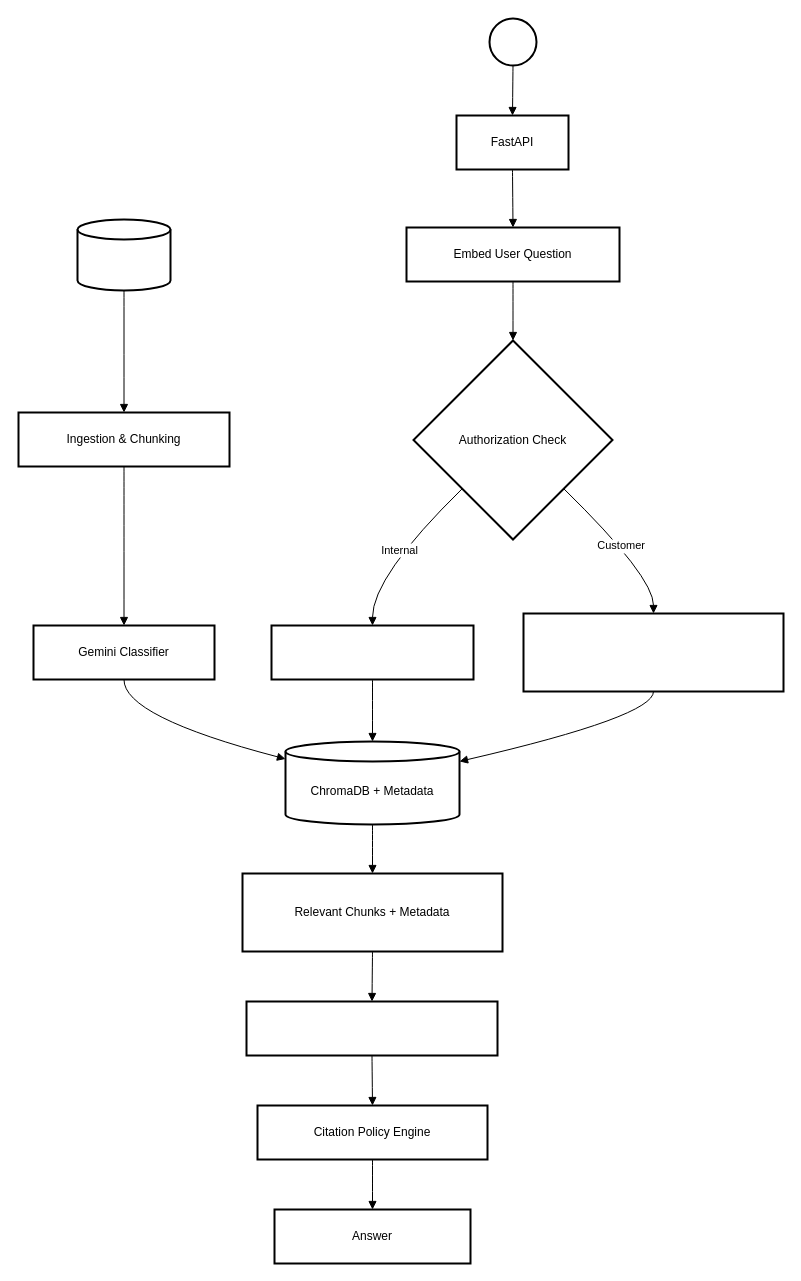
Image size: 801x1281. Some labels were removed from this diagram. The centre of each missing label's shape, as x and y in pixels:
Gemini Answer Generation: pixel 371 1028
Public Only Knowledge Gate: pixel 653 652
Slack JSON: pixel 123 254
Unrestricted Search: pixel 372 652
User: pixel 512 41
